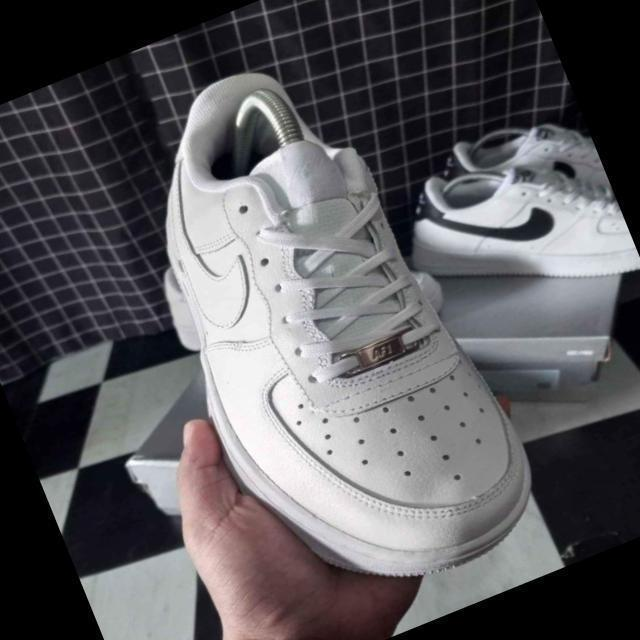nike fake air force: (98, 38, 565, 640)
